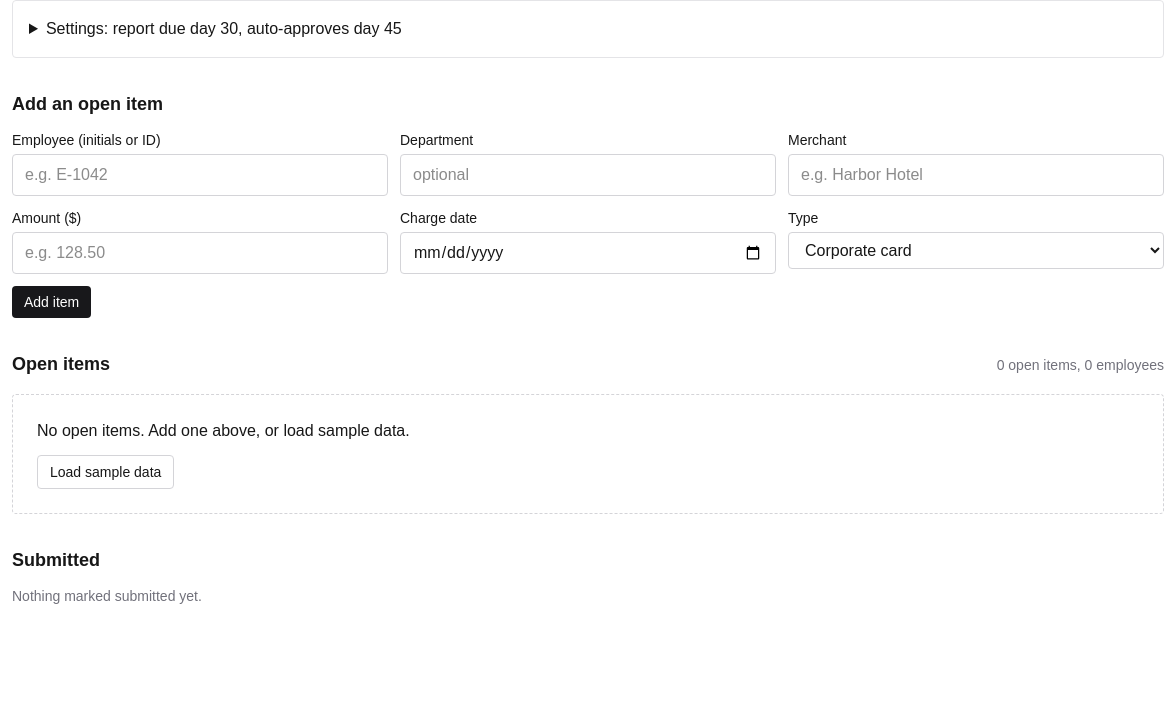
Test: Tracker › logs a follow-up (S3 criteria 1–3)
The width and height of the screenshot is (1176, 720).
expect the heading "Add an open item" is shown: met, box [12,94,163,114]
Type "E-7" into the field labelled "Employee (initials or ID)" at coordinates (200, 175), box [12,154,388,196]
Type "Harbor Hotel" into the field labelled "Merchant" at coordinates (976, 175), box [788,154,1164,196]
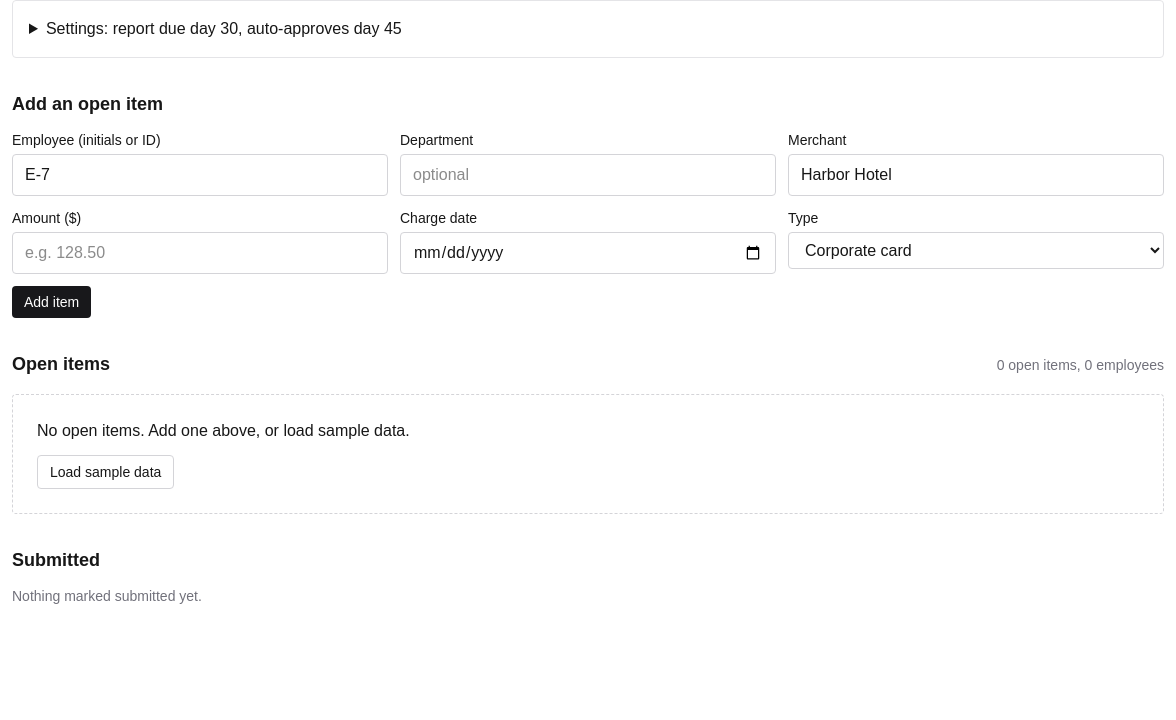
Type "412.80" into the field labelled "Amount ($)" at coordinates (200, 253), box [12,232,388,274]
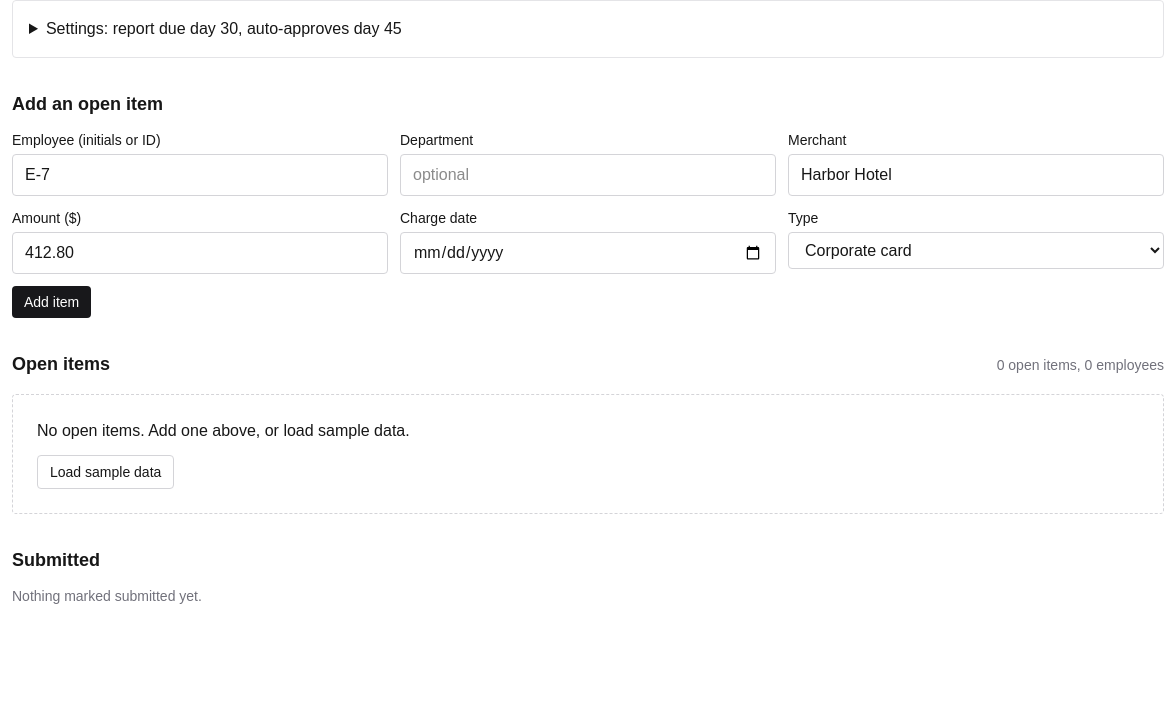
Type "2026-10-09" into the date field labelled "Charge date" at coordinates (588, 253), box [400,232,776,274]
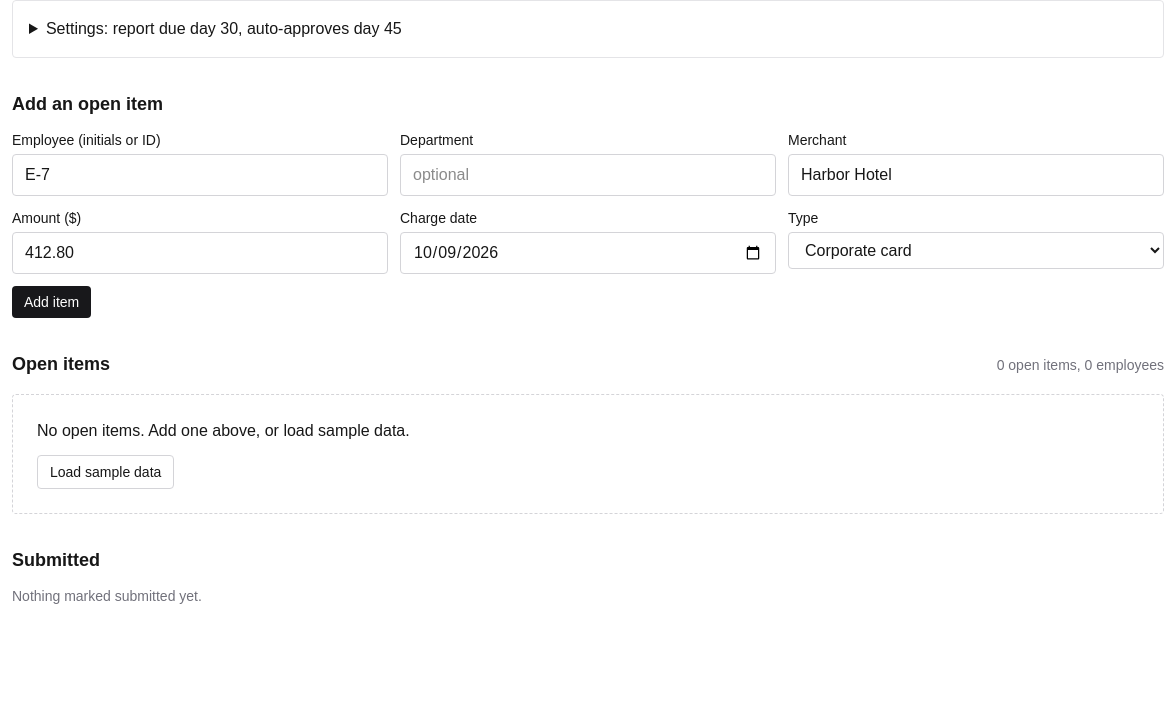
Click the button "Add item" at coordinates (52, 302), box [12,286,91,318]
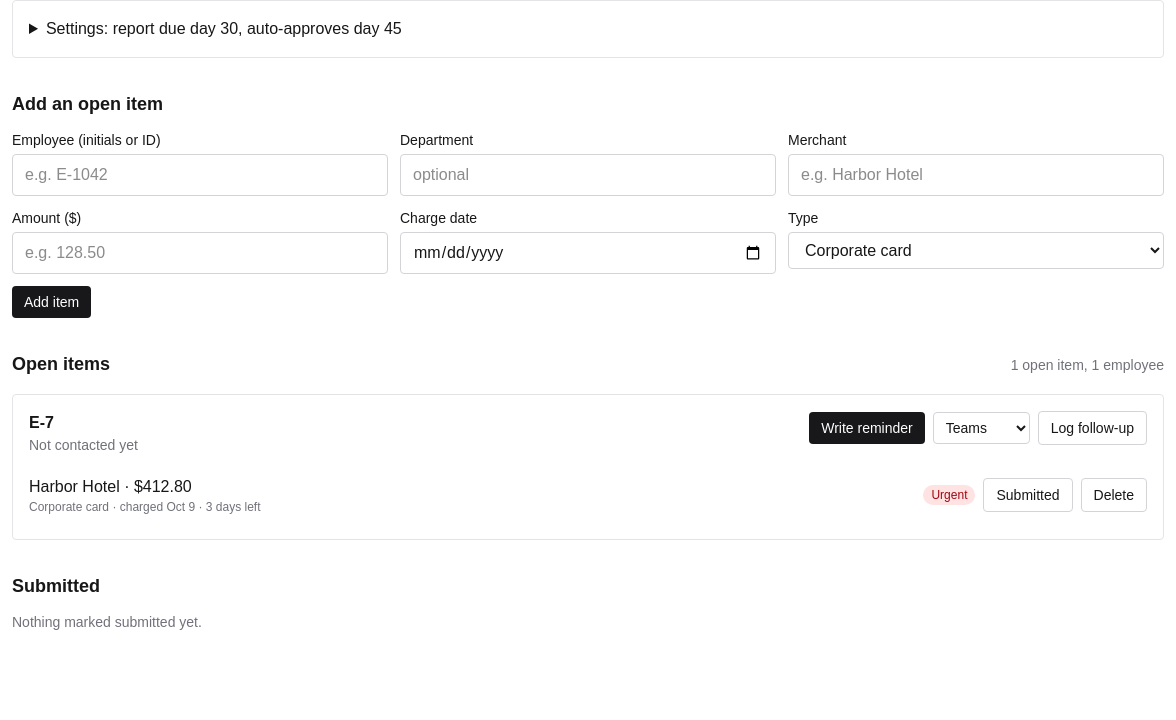
expect the text "Harbor Hotel · $412.80" is shown: met, box [29,478,192,495]
expect the text "Not contacted yet" is shown: met, box [29,435,138,455]
Select "Text" in the dropdown named "Channel" at coordinates (981, 428), box [933,412,1030,444]
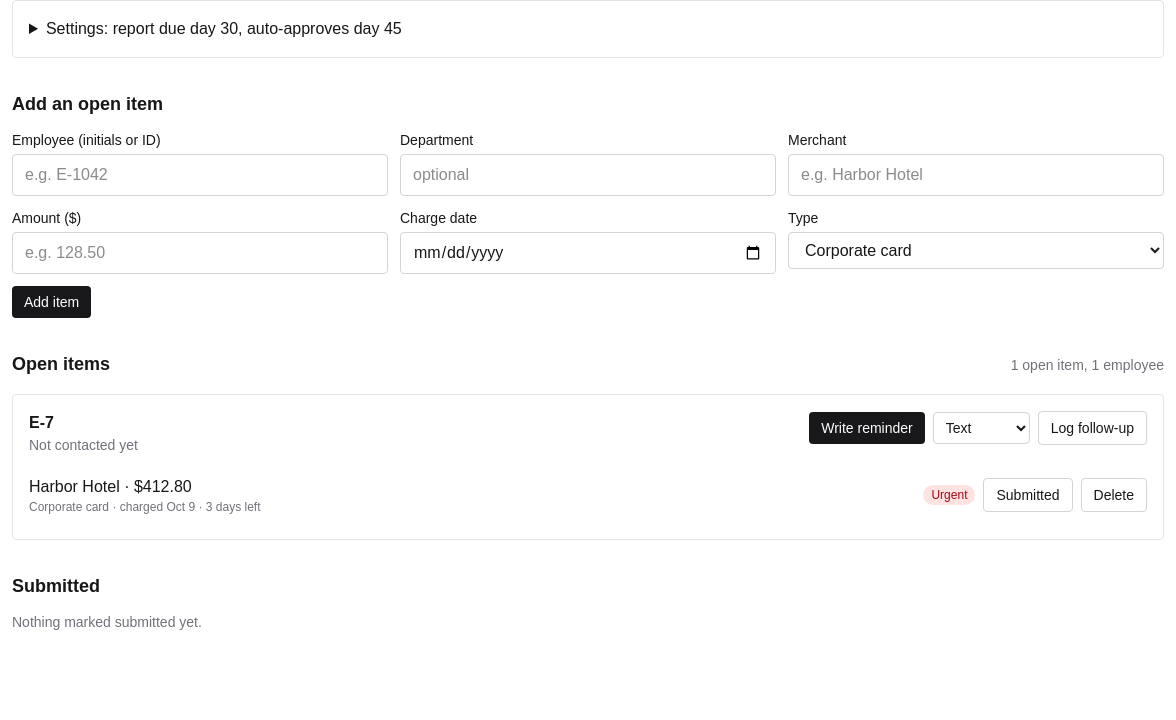
Click the button "Log follow-up" at coordinates (1092, 428), box [1038,411,1147,445]
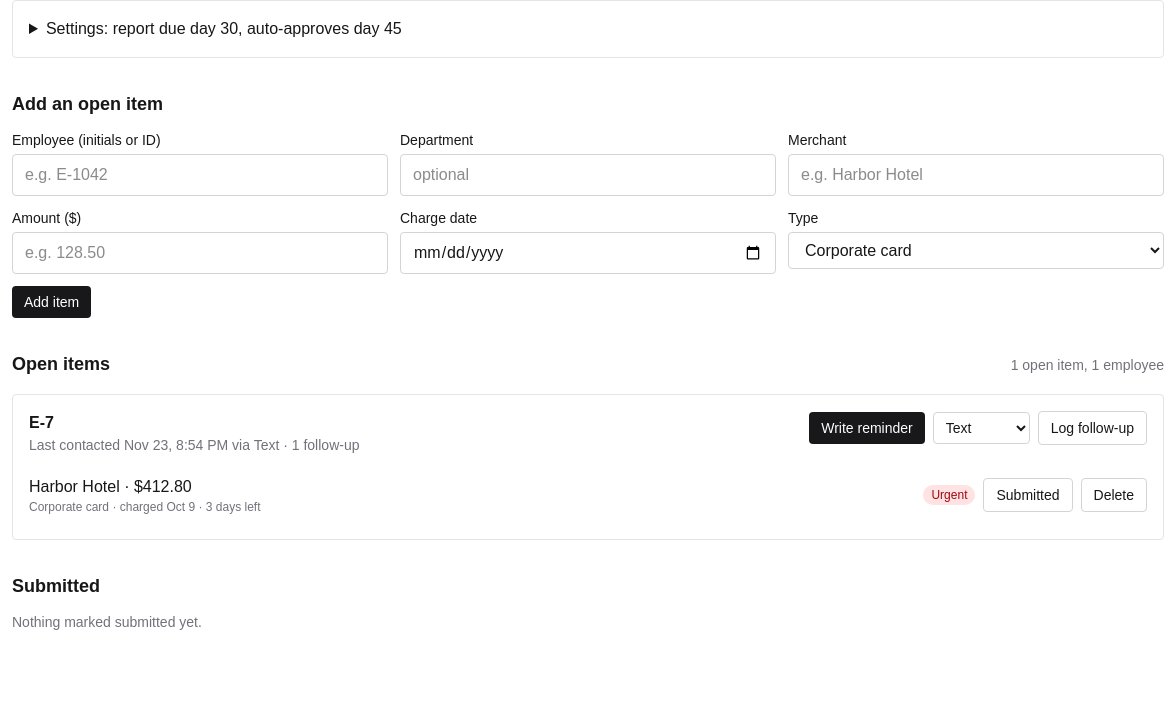
expect the text "Last contacted Nov 23, 8:54 PM via Text · 1 follow-up" is shown: met, box [29,435,360,455]
